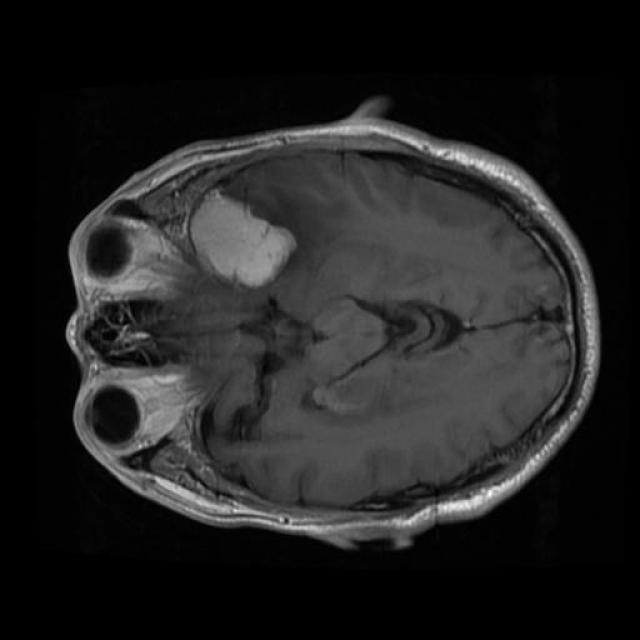Meningioma: (190, 191, 296, 287)
